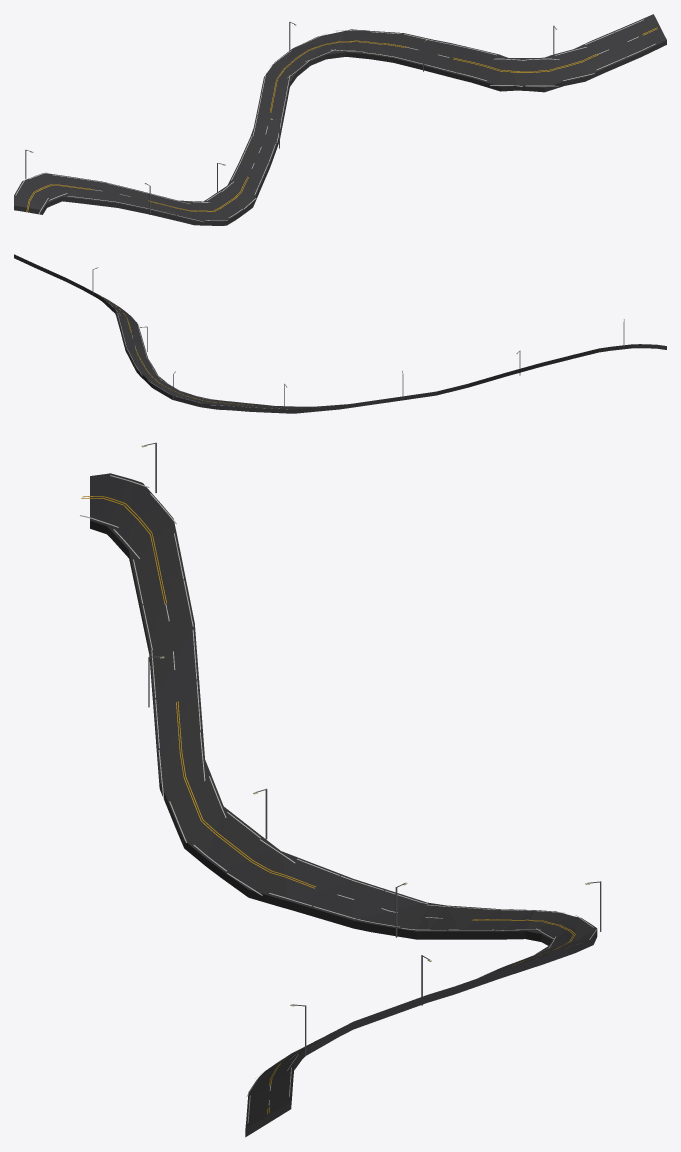
The picture shows the model from 3 angles, top to bottom: view 1: azimuth 30°, elevation 25°; view 2: azimuth 150°, elevation 25°; view 3: azimuth 270°, elevation 25°; orthographic projection. The views are drawn at different scales.
Bounding box in the file's own units: 189 × 35.98 × 70.7.
